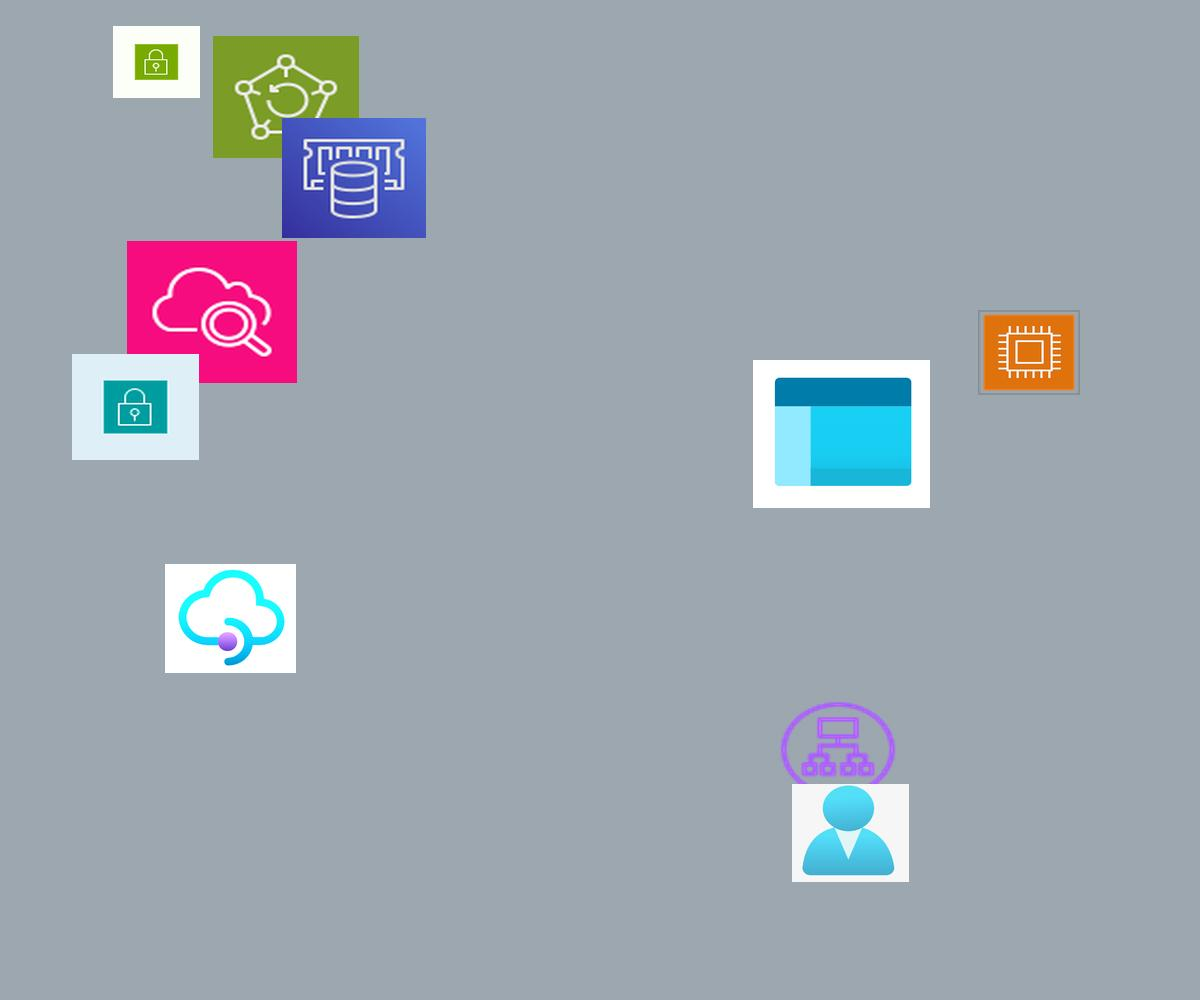AWS-Backup: (213, 36, 359, 158)
AWS-Category_Compute: (978, 310, 1080, 395)
AWS-CloudWatch: (127, 241, 297, 383)
AWS-ElastiCache: (282, 118, 426, 238)
AWS-Private-subnet: (72, 354, 199, 460)
AWS-Public-subnet: (113, 26, 200, 98)
AWS-Res_Elastic-Load-Balancing_Application-Load-Balancer: (776, 698, 900, 801)
Azure_api_gateway: (165, 564, 296, 673)
Azure_management-portal: (753, 360, 930, 508)
Azure_users: (792, 784, 909, 882)
